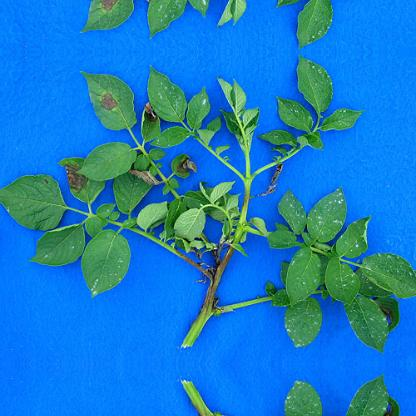Late-Blight: (35, 64, 292, 306)
